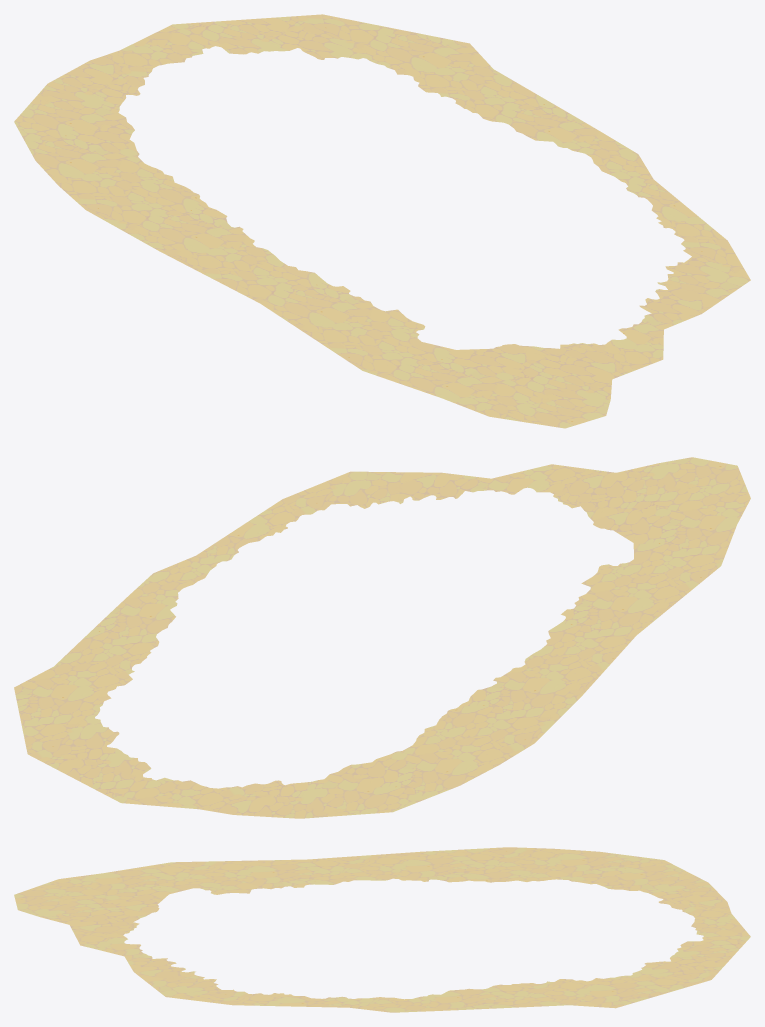
File: Mesh_Home_BH_Land_02.fbx
3 views of the same model, one above another, from view 1: azimuth 30°, elevation 25°; view 2: azimuth 150°, elevation 25°; view 3: azimuth 270°, elevation 25° (orthographic). The views are drawn at different scales.
Parts seen in each view (by area): view 1: Mesh_Home_BH_Land_02; view 2: Mesh_Home_BH_Land_02; view 3: Mesh_Home_BH_Land_02.
Part boxes in pixels (x1=…): Mesh_Home_BH_Land_02: x1=14, y1=14, x2=750, y2=428; Mesh_Home_BH_Land_02: x1=14, y1=457, x2=750, y2=818; Mesh_Home_BH_Land_02: x1=14, y1=847, x2=750, y2=1012.
Size of the model in its own units: 3368 by 1.43e-06 by 6334.
Materials: 1 (1 with a texture image).
